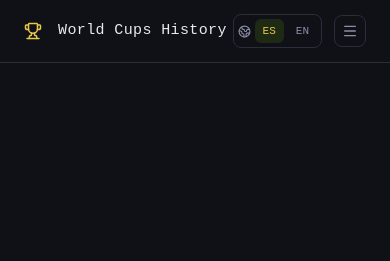
Test: WorldCupsNavbar › renders a mobile toggler that opens and closes the menu
The image size is (390, 261).
Click the button named "Abrir menú". click: click(350, 31)
box: top-left (334, 15), bottom-right (366, 47)
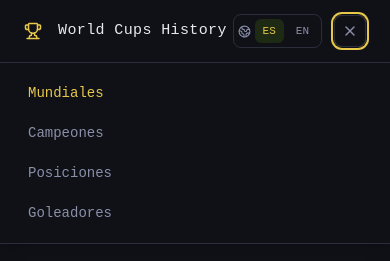
Expected: the button named "Cerrar menú" is expanded, top-left (334, 15), bottom-right (366, 47)
Expected: the link "Posiciones" is shown, top-left (28, 165), bottom-right (112, 181)
